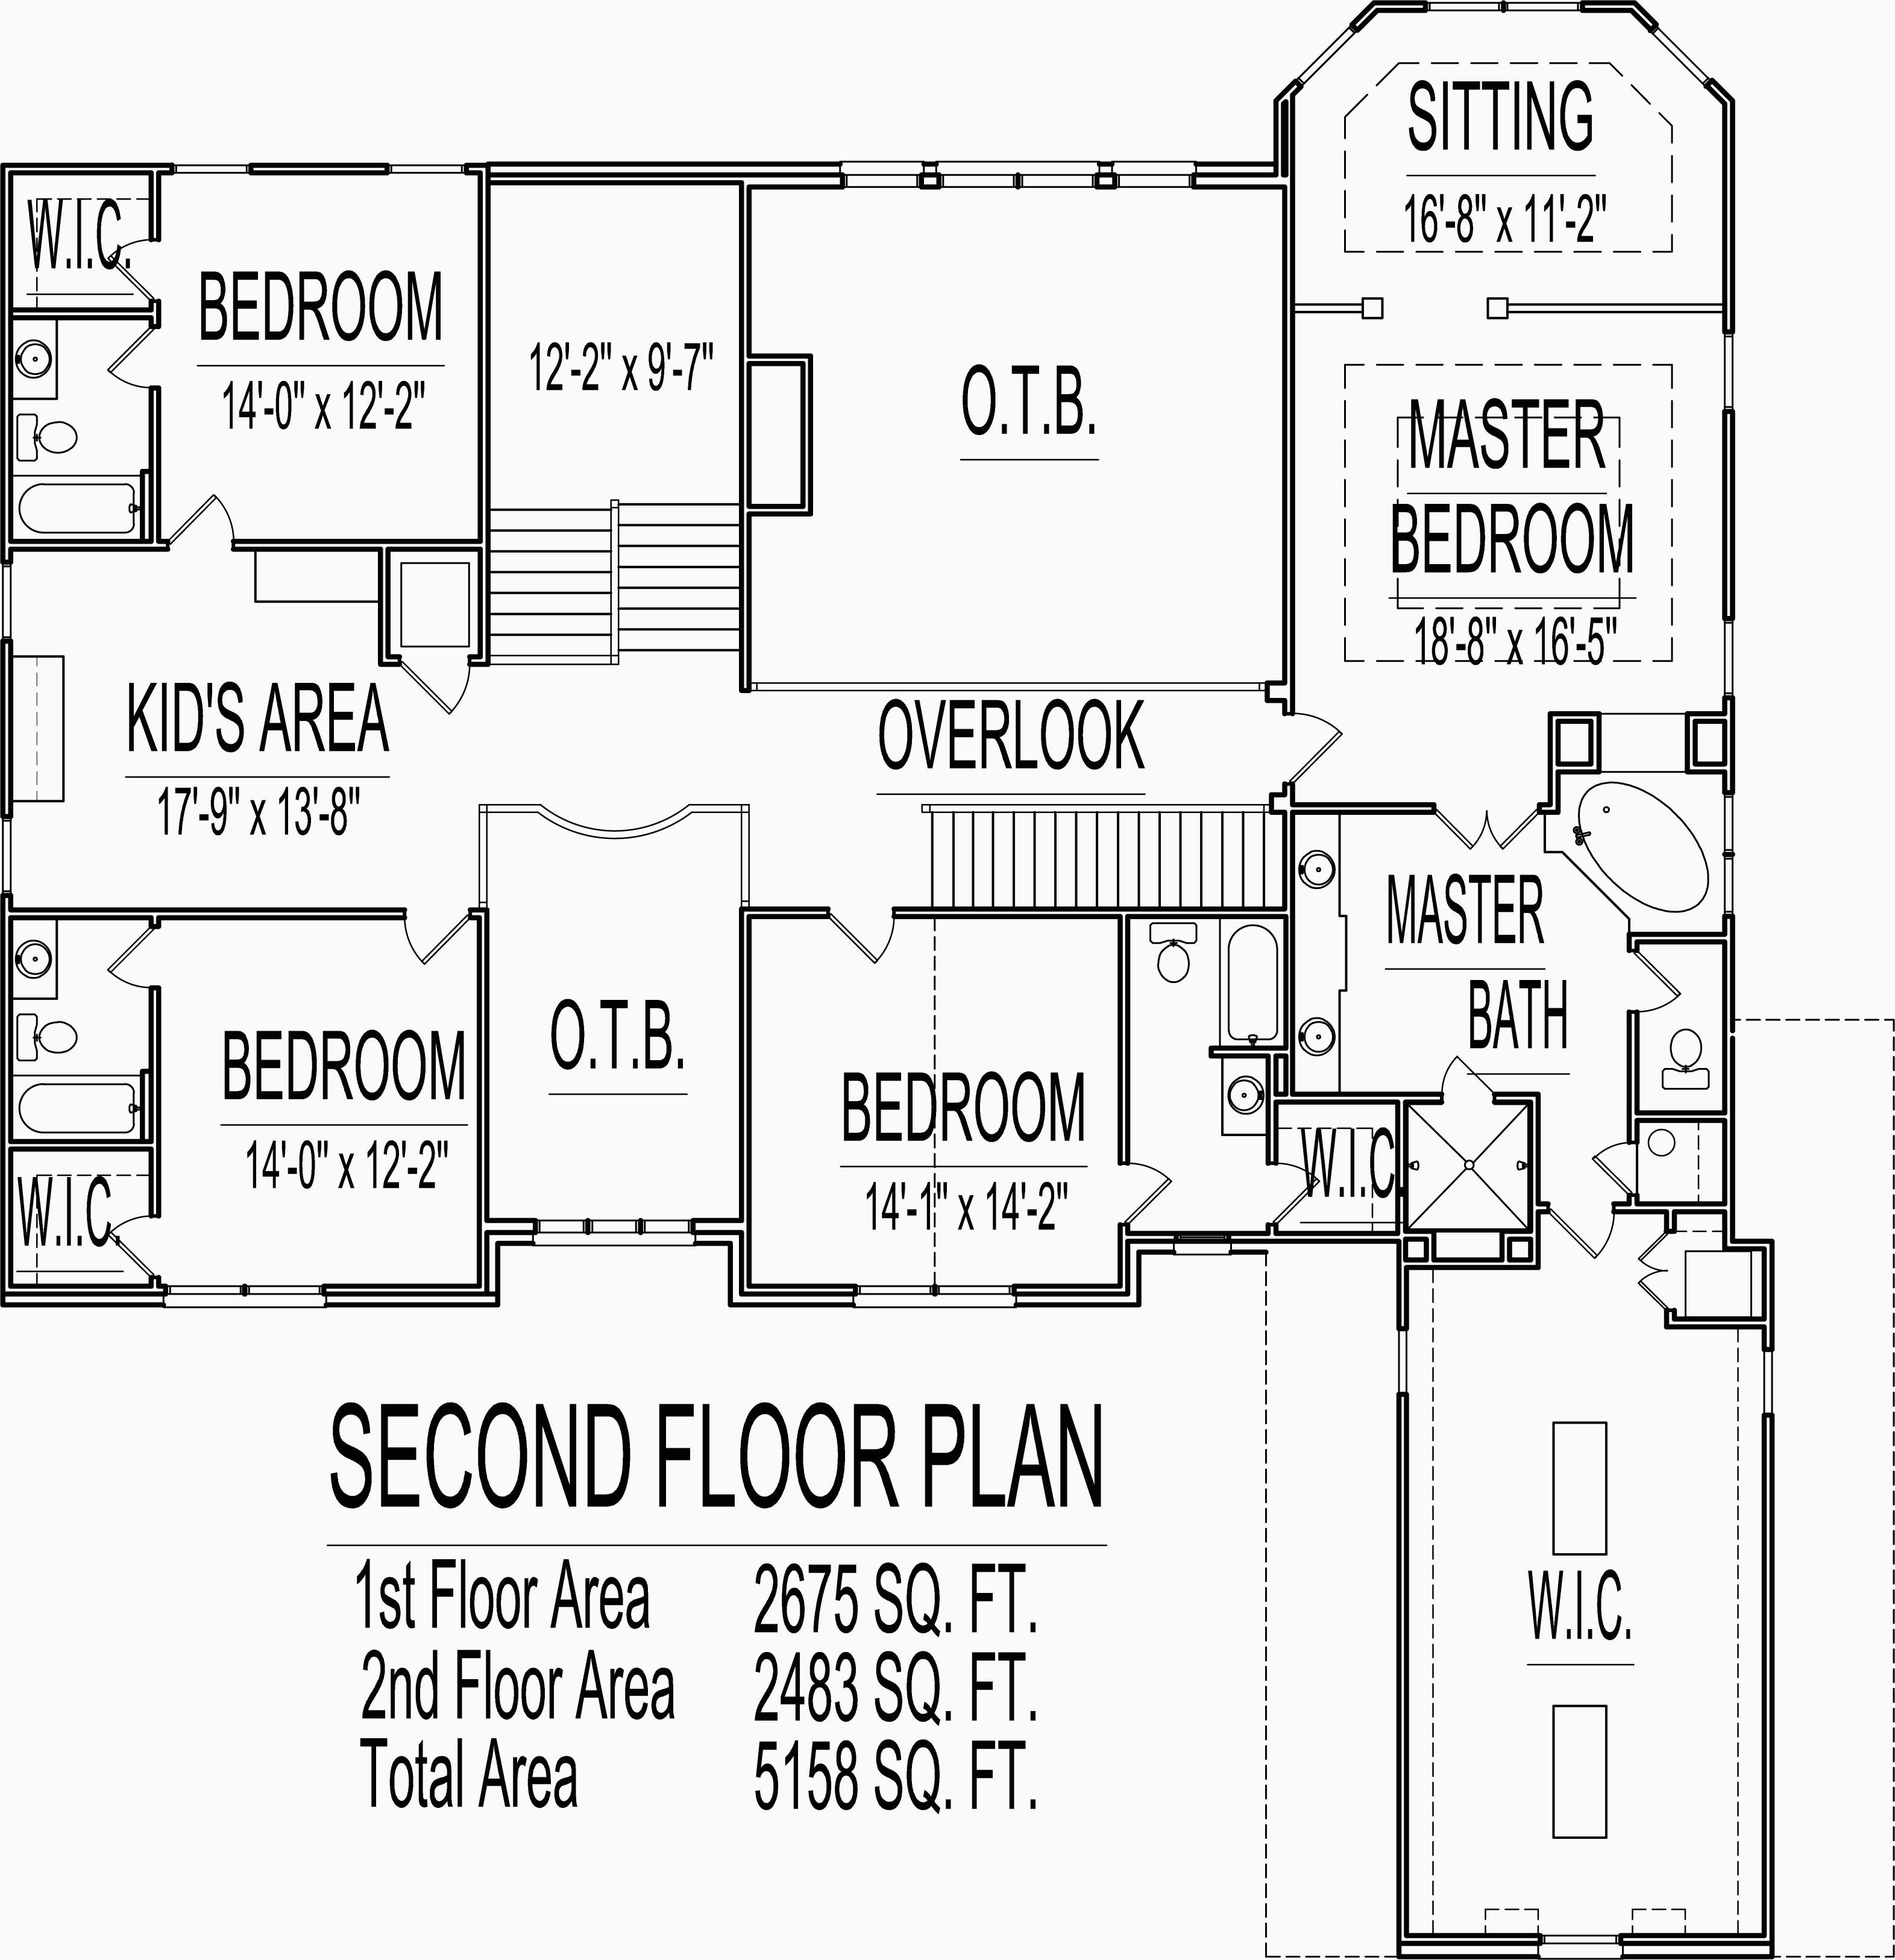room: (738, 173, 1284, 677), (1398, 1235, 1774, 1960), (1284, 306, 1732, 767), (3, 544, 479, 913), (740, 906, 1130, 1309), (1305, 767, 1738, 1113), (1283, 0, 1738, 308), (157, 905, 492, 1302), (157, 163, 492, 544), (1132, 912, 1284, 1246), (7, 910, 159, 1137), (7, 308, 152, 544), (2, 1148, 170, 1293), (0, 164, 163, 313), (1267, 1092, 1398, 1241)
